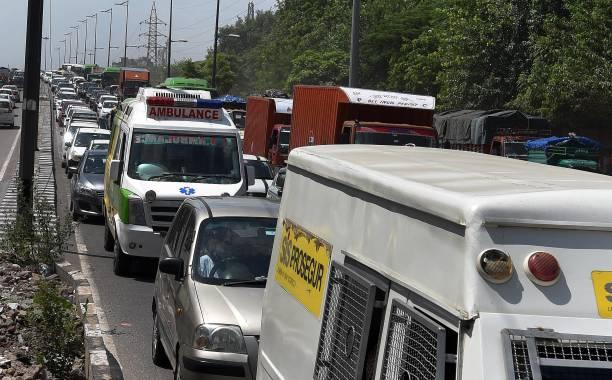AMBULANCE: (137, 100, 227, 127), (140, 77, 222, 102)
